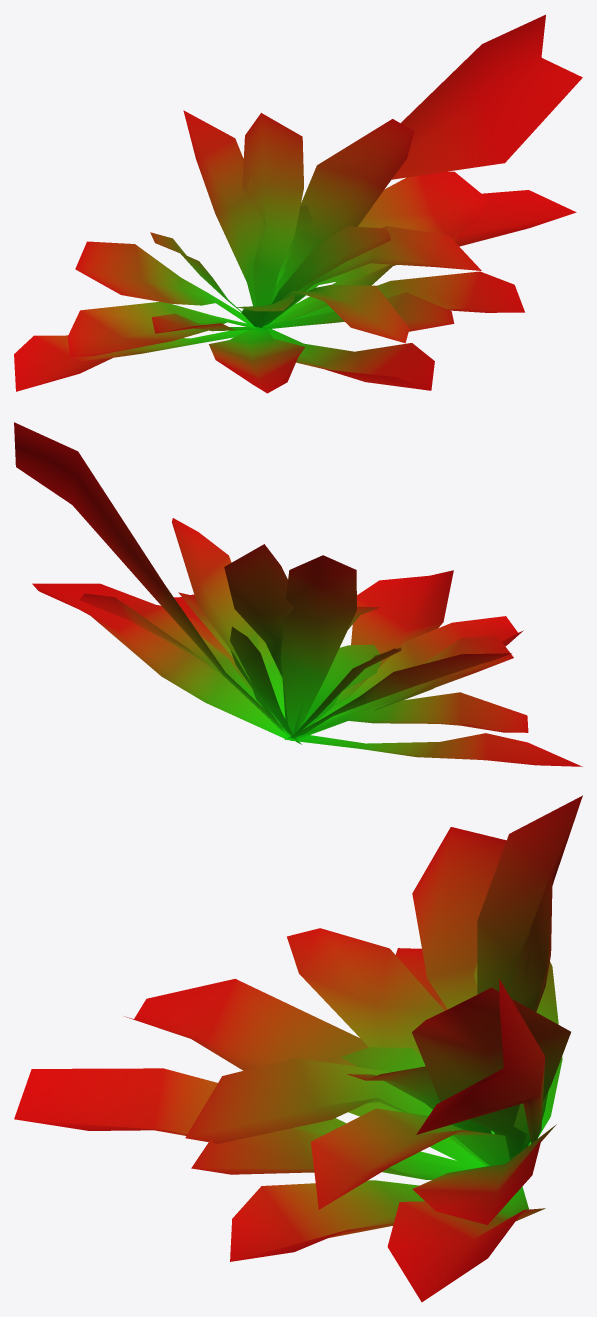
Rendered from Var26_LOD0.fbx.
3 renders of one model, top to bottom at view 1: azimuth 30°, elevation 25°; view 2: azimuth 150°, elevation 25°; view 3: azimuth 270°, elevation 25°, orthographic. The views are drawn at different scales.
Parts seen in each view (by area): view 1: _uwmi_Var26_LOD0; view 2: _uwmi_Var26_LOD0; view 3: _uwmi_Var26_LOD0.
Boxes of the visible parts, x1,y1,x2,y2 form: _uwmi_Var26_LOD0: (14, 14, 582, 393); _uwmi_Var26_LOD0: (14, 422, 582, 766); _uwmi_Var26_LOD0: (14, 795, 582, 1302).
Bounding box in the file's own units: 21.81 × 9.18 × 11.81.
